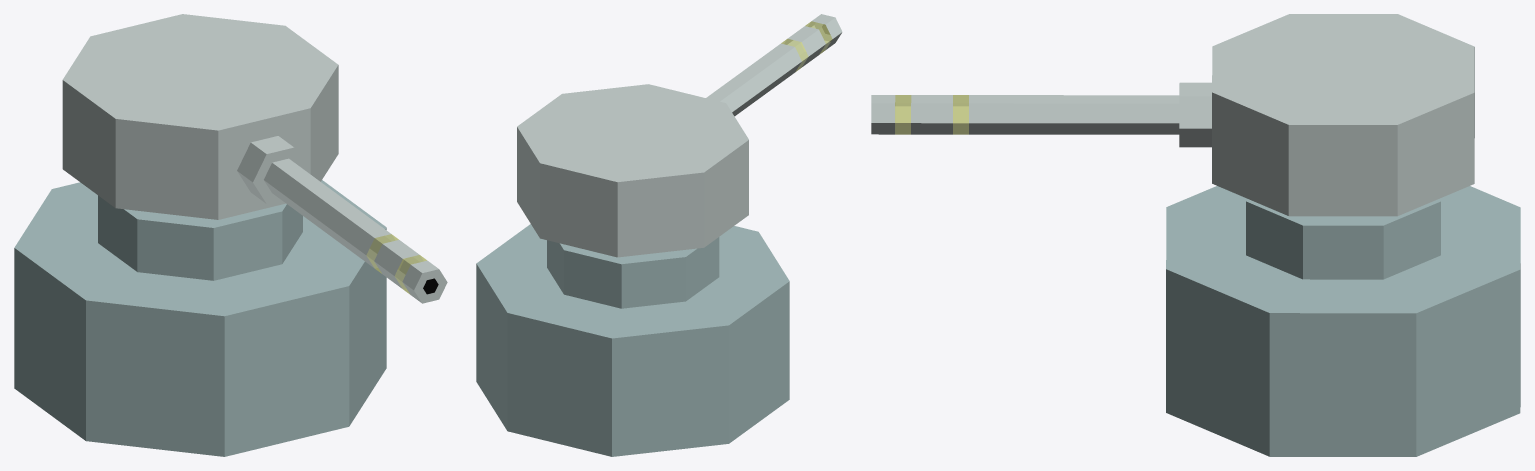
File: SpaceShip_Gun.fbx
The picture shows the model from 3 angles, left to right: view 1: azimuth 30°, elevation 25°; view 2: azimuth 150°, elevation 25°; view 3: azimuth 270°, elevation 25°; orthographic projection. The views are drawn at different scales.
Visible parts, largest first — view 1: GunBase.002, Gun.002; view 2: GunBase.002, Gun.002; view 3: GunBase.002, Gun.002.
Part boxes in pixels (bbox=[...]): GunBase.002: bbox=[14, 180, 386, 456]; Gun.002: bbox=[62, 14, 447, 303]; GunBase.002: bbox=[476, 224, 789, 456]; Gun.002: bbox=[517, 14, 842, 257]; GunBase.002: bbox=[1166, 186, 1520, 456]; Gun.002: bbox=[871, 14, 1474, 216].
Size of the model in its own units: 40.28 by 39.17 by 73.78.
